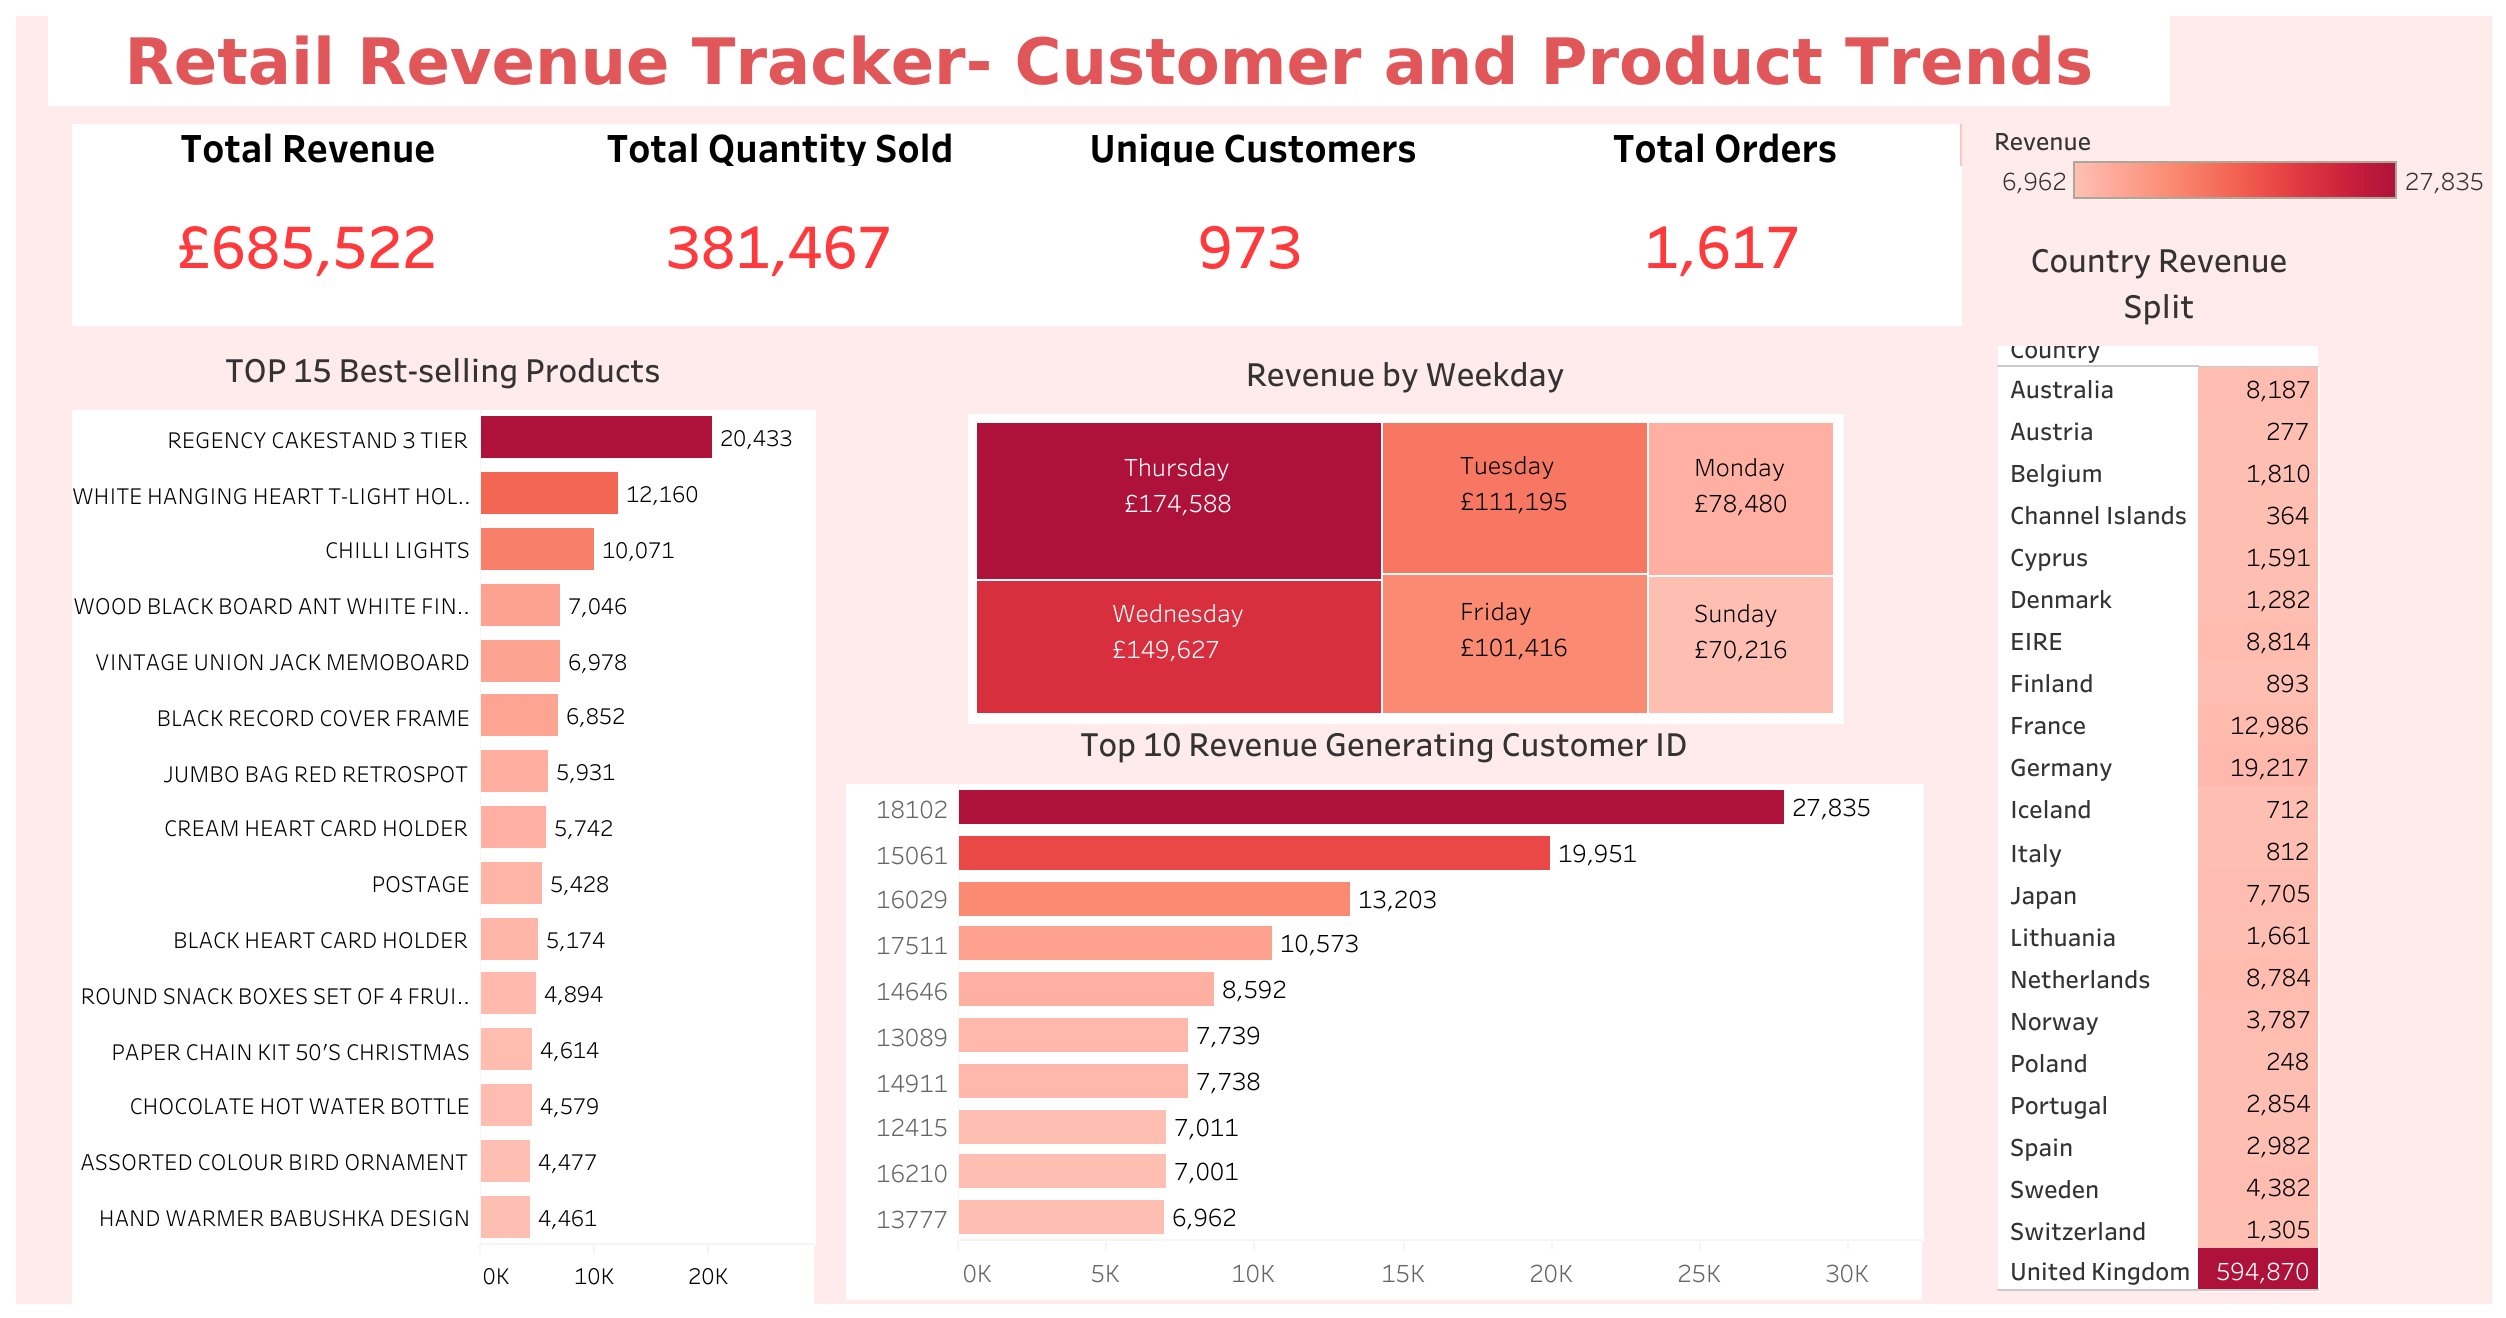

Layout of this report page (visuals, bound fields, positions):
{"tool":"tableau","page":{"name":"Dashboard 1","canvas":[1000,1000],"units":"permille","ordinal":0},"visuals":[{"type":"text","box":[18.9,12.1,846.7,68.2]},{"type":"legend","title":"Revenue by customer ID","param":"[federated.1xaum8z0x2b1bo115618m1wbod3t].[sum:Revenue:qk]","box":[795,86.4,199.3,71.2]},{"type":"worksheet","title":"KPI","mark":"Text","box":[28.7,93.9,753.3,151.5]},{"type":"worksheet","title":"country revenue split","mark":"Square","rows":["Country"],"box":[796.6,169.7,151.7,810.6]},{"type":"worksheet","title":"Revenue by product","mark":"Automatic","rows":["Description"],"cols":["Revenue"],"box":[29.1,253,295.4,734.9]},{"type":"worksheet","title":"Revenue by weekday","mark":"Automatic","box":[385.8,256.1,365.6,290.9]},{"type":"worksheet","title":"Revenue by customer ID","mark":"Bar","rows":["CustomerID"],"cols":["Revenue"],"box":[337.7,536.4,428.7,448.5]}]}

Visuals, with their boxes on the dashboard's canvas, which has no fixed pixel size, in thousandths of its width and height (x1, y1, x2, y2). These are canvas units, not pixel positions in the 2506x1318 screenshot, which may show the page scaled, cropped or inside an application window:
text: <box>19,12,866,80</box>
"Revenue by customer ID" legend: <box>795,86,994,158</box>
"KPI" worksheet (Text marks): <box>29,94,782,245</box>
"country revenue split" worksheet (Square marks): <box>797,170,948,980</box>
"Revenue by product" worksheet: <box>29,253,324,988</box>
"Revenue by weekday" worksheet: <box>386,256,751,547</box>
"Revenue by customer ID" worksheet (Bar marks): <box>338,536,766,985</box>
